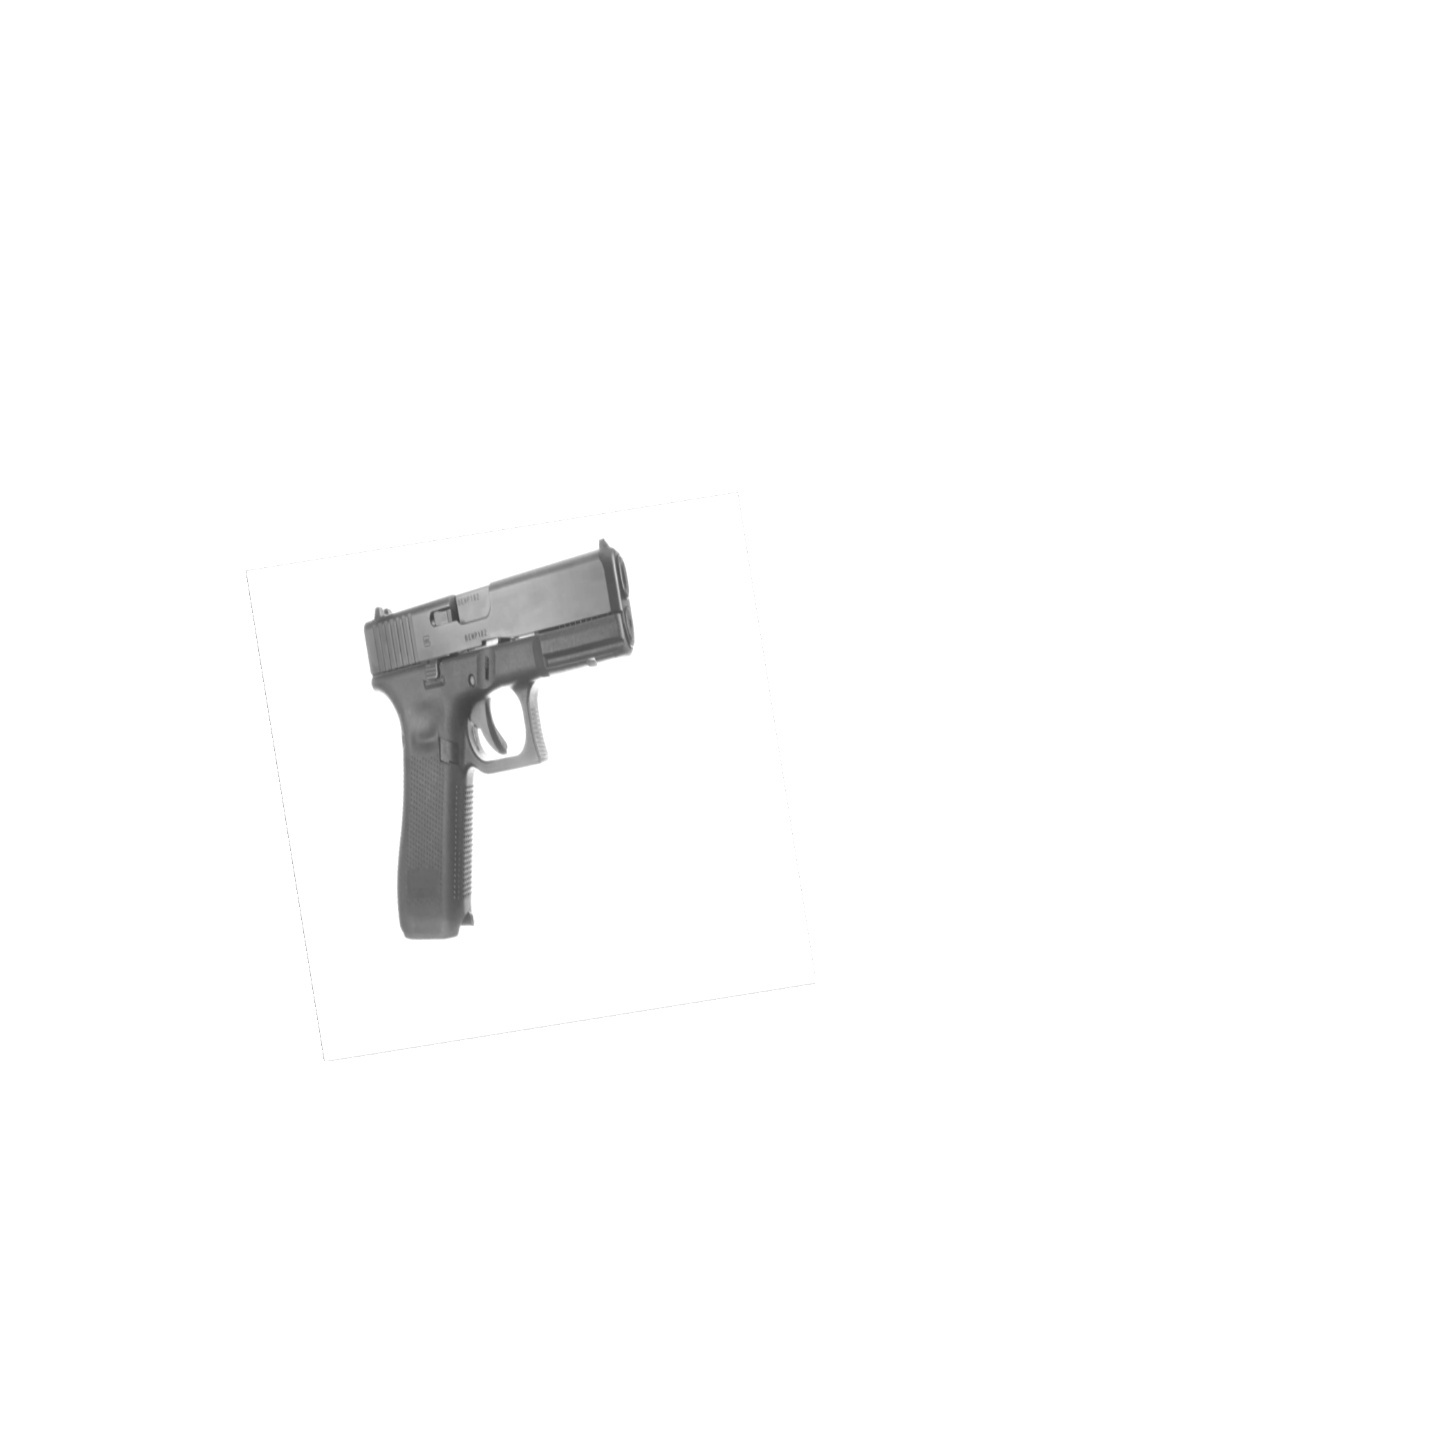gun: (356, 532, 636, 944)
